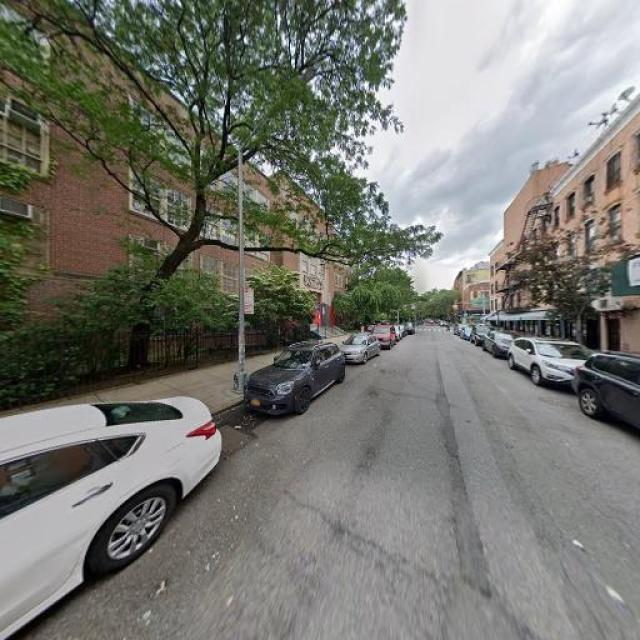Building: (1, 1, 358, 383), (492, 104, 640, 372)
